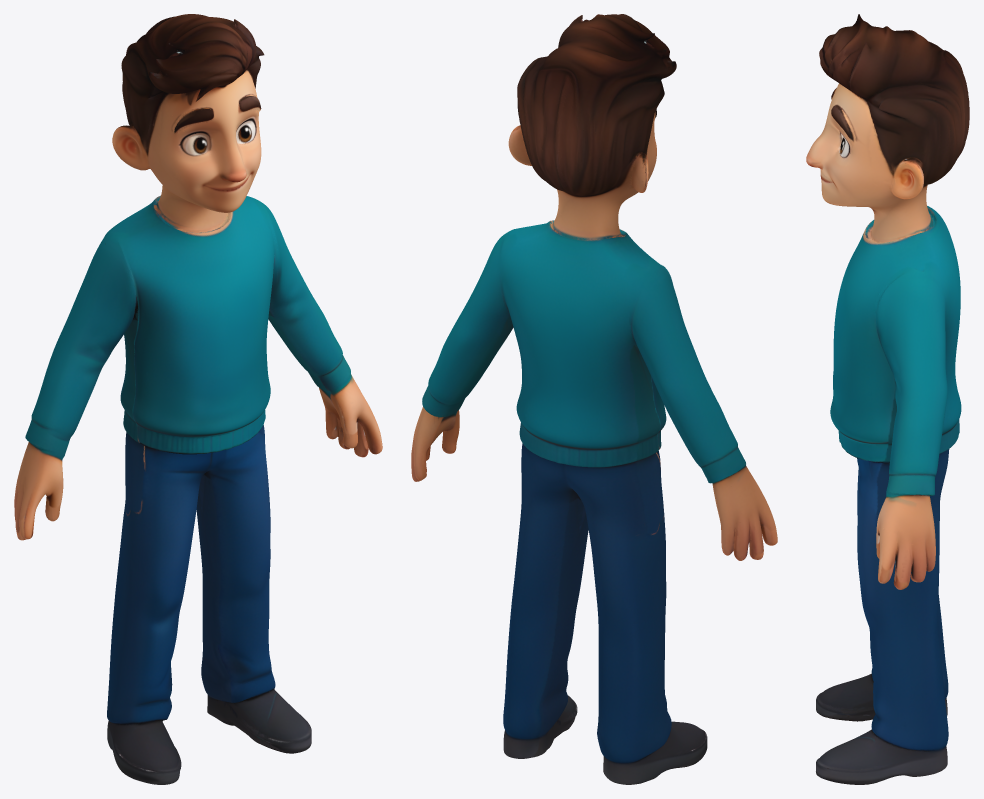
Rendered from base_basic_shaded.glb.
3 renders of one model, left to right at view 1: azimuth 30°, elevation 25°; view 2: azimuth 150°, elevation 25°; view 3: azimuth 270°, elevation 25°, orthographic.
Parts seen in each view (by area): view 1: model; view 2: model; view 3: model.
Part boxes in pixels (bbox=[...]): model: bbox=[14, 14, 382, 784]; model: bbox=[411, 14, 777, 784]; model: bbox=[806, 14, 969, 784].
Size of the model in its own units: 0.983 by 1.9 by 0.3938.
Materials: 1 (1 with a texture image).
